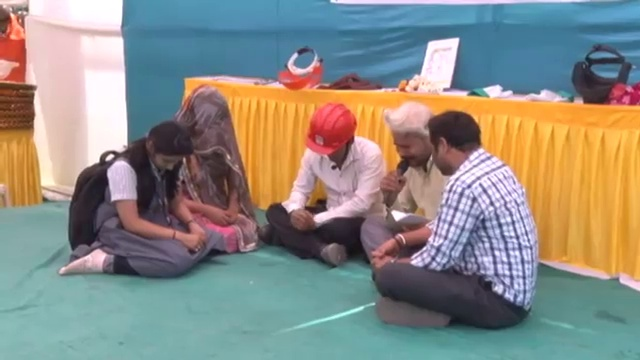helmet: (300, 99, 361, 150), (0, 55, 21, 81)
helmet_off: (428, 109, 487, 177), (141, 120, 195, 178), (180, 88, 233, 147), (388, 103, 432, 167), (0, 1, 12, 38)
helmet_on: (299, 97, 362, 169)
person: (373, 107, 542, 331), (60, 119, 212, 280), (257, 105, 388, 262), (166, 77, 260, 258), (360, 107, 451, 269), (0, 1, 30, 84)
